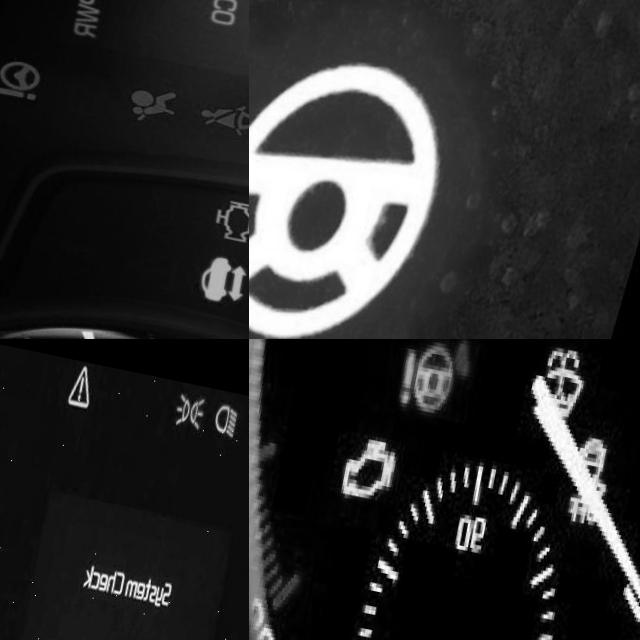Electronic Power Steering: (249, 15, 467, 339), (399, 339, 471, 408), (2, 51, 57, 100)
Seat Belt: (207, 86, 249, 126)
